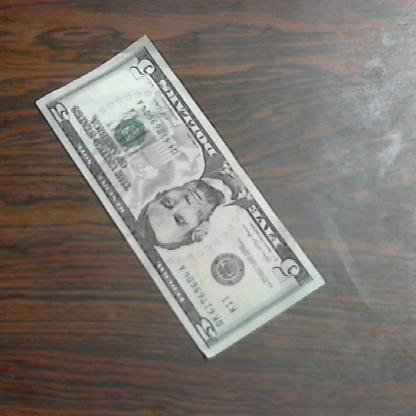vef_front: (33, 34, 325, 361)
